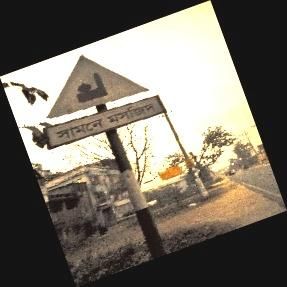Mosque in front: (42, 54, 162, 149)
